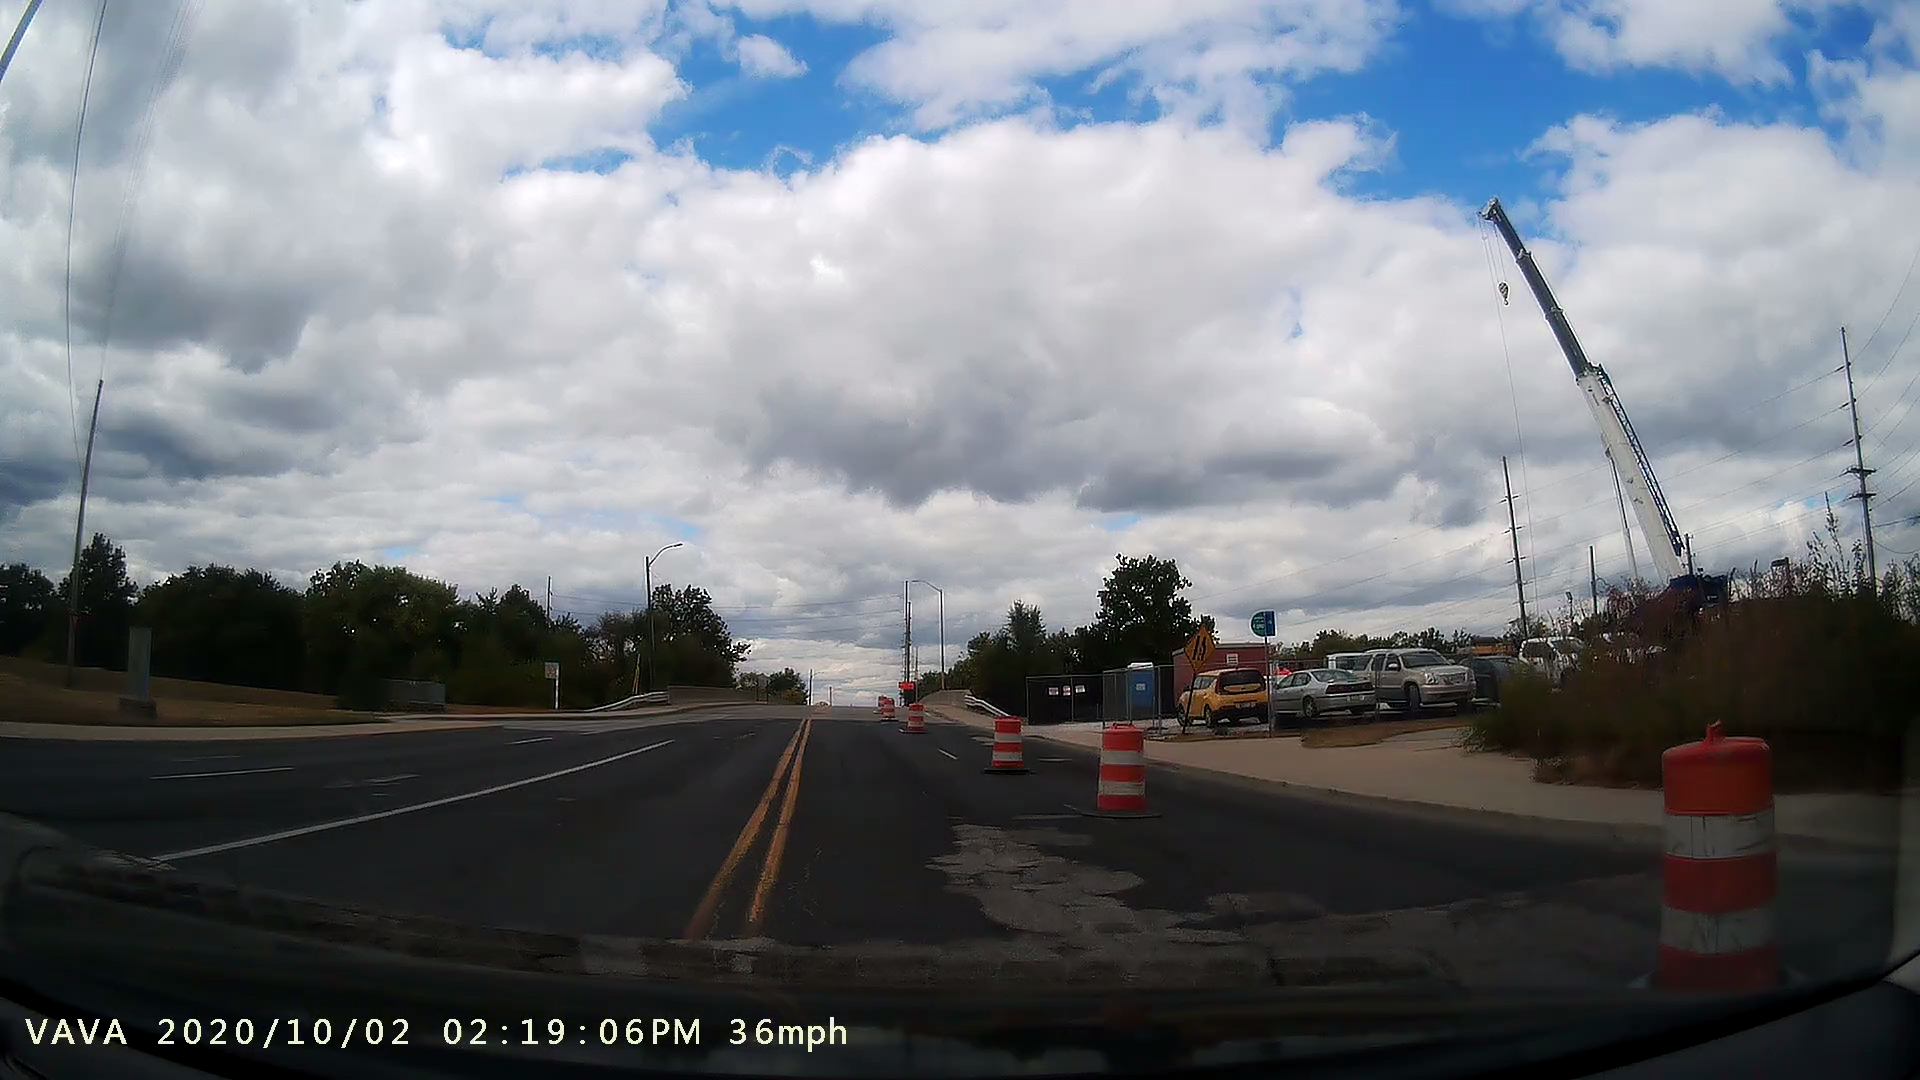const_barrel: (1619, 719, 1797, 1000), (1080, 708, 1178, 820), (965, 691, 1042, 781), (895, 688, 938, 746)
